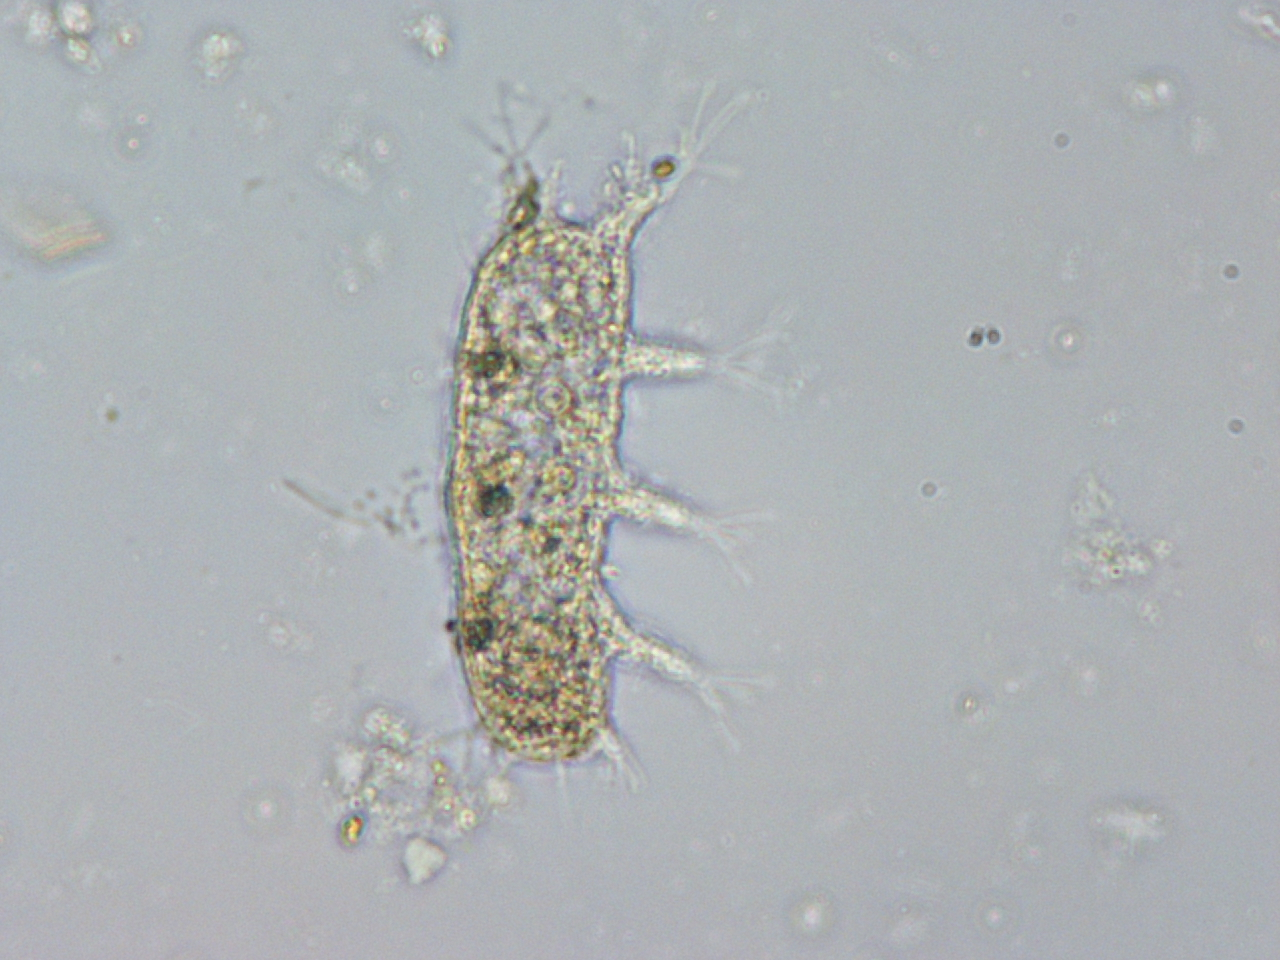tardigrada: (430, 79, 768, 804)
